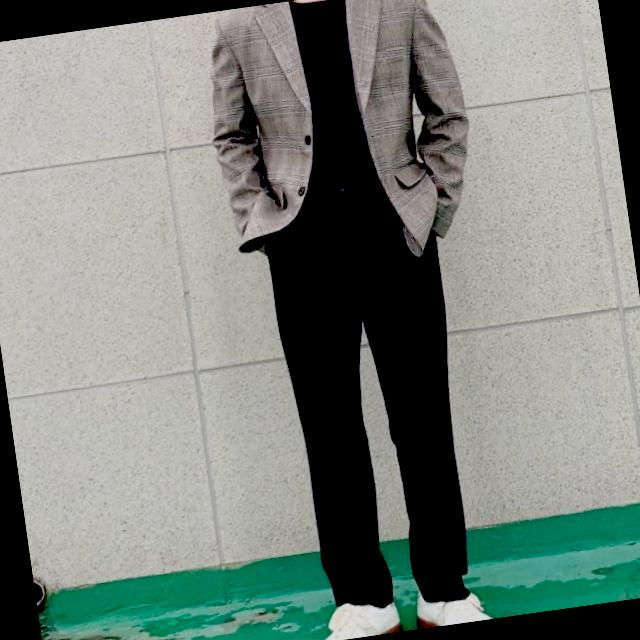blazer: (197, 0, 487, 281)
slacks: (259, 180, 487, 619)
